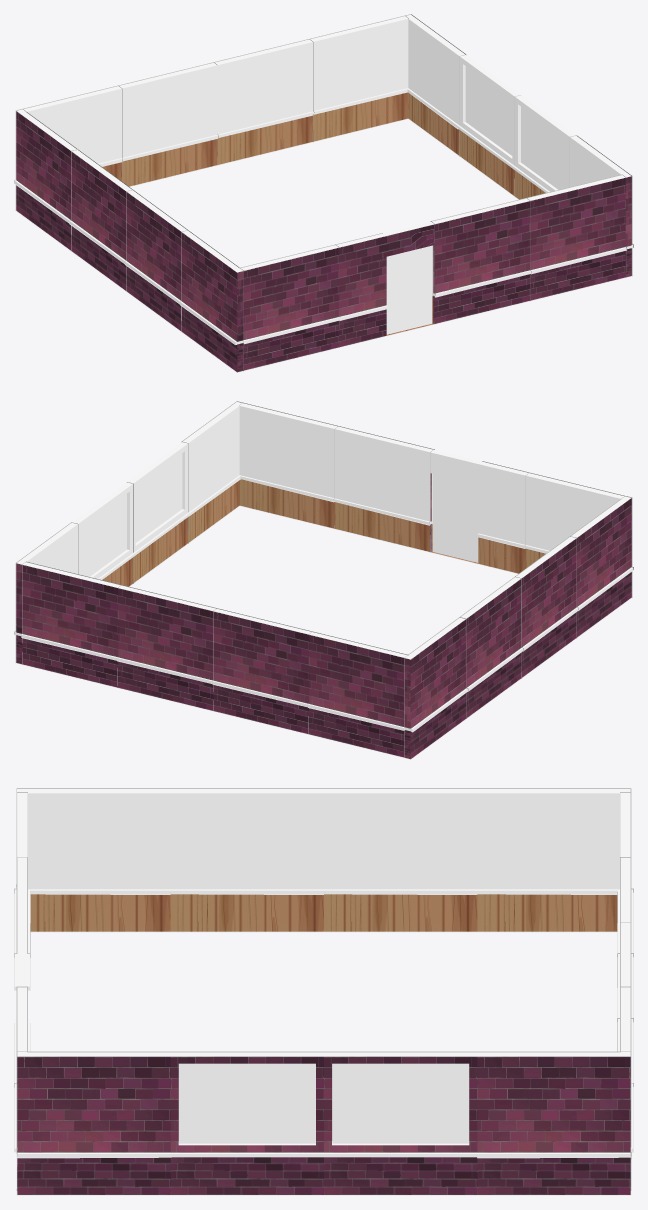
3 renders of one model, top to bottom at view 1: azimuth 30°, elevation 25°; view 2: azimuth 150°, elevation 25°; view 3: azimuth 270°, elevation 25°, orthographic. The views are drawn at different scales.
Parts seen in each view (by area): view 1: Cube.011, Cube.003, Cube.004, Cube.001, Cube.009, Cube.012, Cube.013, Cube.014, Cube.015, Cube.016, Cube.006, Cube.005 (+4 smaller); view 2: Cube.011, Cube.001, Cube.004, Cube.009, Cube, Cube.003, Cube.014, Cube.013, Cube.016, Cube.007, Cube.015, Cube.008 (+4 smaller); view 3: Cube.005, Cube.008, Cube.016, Cube.007, Cube.015, Cube.006, Cube.013, Cube.014, Cube.011, Cube.012, Cube, Cube.001 (+3 smaller).
Part boxes in pixels (<box>): Cube.011: <box>335,198,531,347</box>; Cube.003: <box>213,39,314,165</box>; Cube.004: <box>309,15,408,141</box>; Cube.001: <box>118,62,218,186</box>; Cube.009: <box>526,174,627,301</box>; Cube.012: <box>239,244,339,370</box>; Cube.013: <box>179,230,243,372</box>; Cube.014: <box>14,109,78,251</box>; Cube.015: <box>124,189,187,331</box>; Cube.016: <box>69,149,133,291</box>; Cube.006: <box>458,54,520,197</box>; Cube.005: <box>405,14,465,156</box>; Cube.011: <box>333,426,529,573</box>; Cube.001: <box>212,608,312,734</box>; Cube.004: <box>21,561,121,687</box>; Cube.009: <box>239,402,339,529</box>; Cube: <box>307,631,408,757</box>; Cube.003: <box>116,585,216,711</box>; Cube.014: <box>404,617,468,759</box>; Cube.013: <box>569,496,633,638</box>; Cube.016: <box>460,576,523,718</box>; Cube.007: <box>127,441,189,584</box>; Cube.015: <box>515,536,578,678</box>; Cube.008: <box>181,401,242,543</box>; Cube.005: <box>476,1051,631,1195</box>; Cube.008: <box>16,1051,171,1195</box>; Cube.016: <box>323,788,477,932</box>; Cube.007: <box>170,1051,324,1195</box>; Cube.015: <box>169,788,324,932</box>; Cube.006: <box>324,1051,477,1195</box>; Cube.013: <box>16,788,170,932</box>; Cube.014: <box>476,788,631,932</box>; Cube.011: <box>14,857,30,1087</box>; Cube.012: <box>14,792,30,957</box>; Cube: <box>617,792,633,954</box>; Cube.001: <box>617,857,633,1018</box>.
Size of the model in its own units: 12.56 by 3.02 by 12.17.
Materials: 7 (2 with a texture image).
